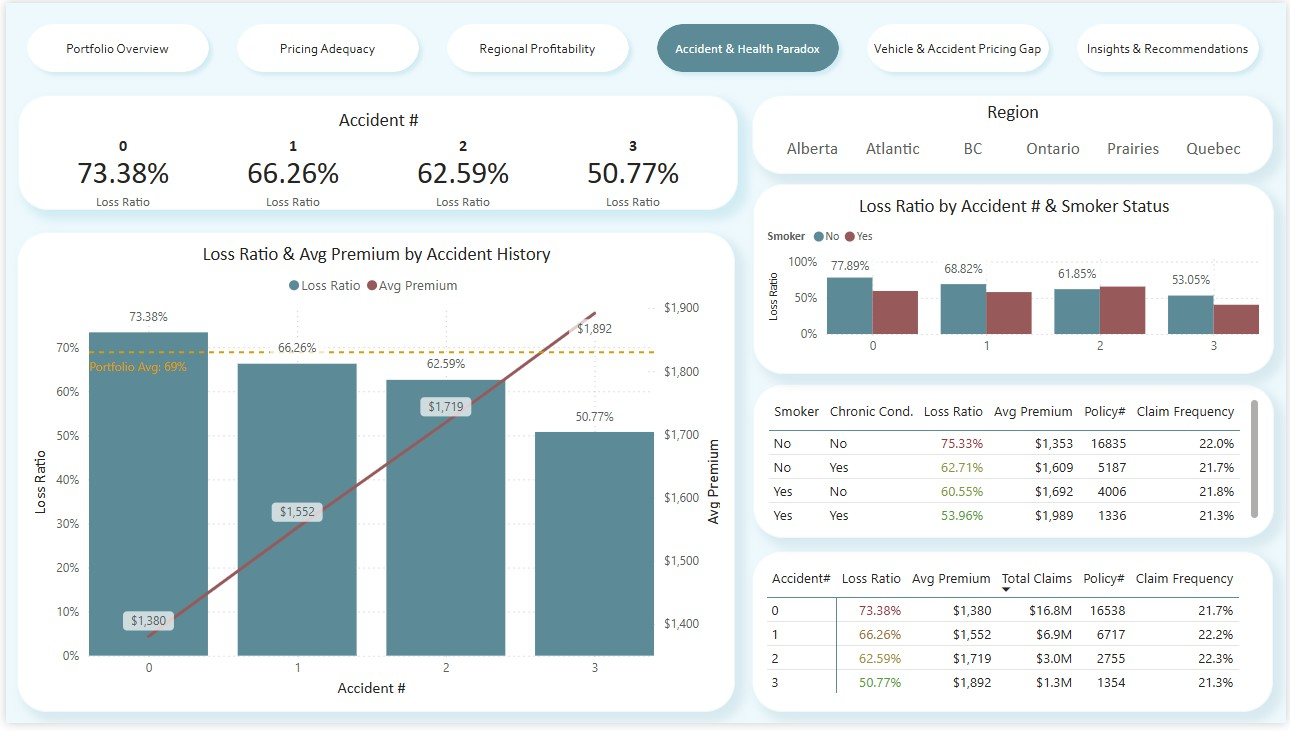

This screenshot's page, from the dashboard's own definition file:
{"tool":"powerbi","page":{"name":"Accident & Health Paradox","canvas":[1280,720],"ordinal":3},"visuals":[{"type":"pageNavigator","box":[11.5,12.4,1255.6,65.6],"z":0},{"type":"cardVisual","title":"Accident #","fields":{"Data":["INSURANCE_DETAIL.Loss Ratio"],"Rows":["INSURANCE_DETAIL.PREVIOUSACCIDENTS"]},"box":[12.2,92.2,720,114.4],"z":1000},{"type":"slicer","title":"Region","fields":{"Values":["INSURANCE_DETAIL.REGION"]},"box":[745.6,92.2,521.1,78.9],"z":2000},{"type":"pivotTable","title":"Avg Premium vs Avg Risk Score ","fields":{"Values":["INSURANCE_DETAIL.Loss Ratio","INSURANCE_DETAIL.Avg Premium","INSURANCE_DETAIL.Total Claims (M)","CountNonNull(INSURANCE_DETAIL.POLICYID)","INSURANCE_DETAIL.Claim Frequency"],"Rows":["INSURANCE_DETAIL.PREVIOUSACCIDENTS"]},"box":[746,548,521,161],"z":3000},{"type":"tableEx","title":"Avg Premium vs Avg Risk Score ","fields":{"Values":["INSURANCE_DETAIL.SMOKER","INSURANCE_DETAIL.CHRONICCONDITION","INSURANCE_DETAIL.Loss Ratio","INSURANCE_DETAIL.Avg Premium","CountNonNull(INSURANCE_DETAIL.POLICYID)","INSURANCE_DETAIL.Claim Frequency"]},"box":[747,381,521,154],"z":4000},{"type":"clusteredColumnChart","title":"Loss Ratio by Accident # & Smoker Status","fields":{"Y":["INSURANCE_DETAIL.Loss Ratio"],"Category":["INSURANCE_DETAIL.PREVIOUSACCIDENTS"],"Series":["INSURANCE_DETAIL.SMOKER"]},"box":[747,181,521,190],"z":5000},{"type":"lineStackedColumnComboChart","title":"Loss Ratio & Avg Premium by Accident History","fields":{"Y":["INSURANCE_DETAIL.Loss Ratio"],"Category":["INSURANCE_DETAIL.PREVIOUSACCIDENTS"],"Y2":["INSURANCE_DETAIL.Avg Premium"]},"box":[11,229,718,480],"z":6000}]}

Visuals, with their boxes in screenshot pixels (x1, y1, x2, y2), scaled from the page's 1280x720 canvas onto the 1290x731 screenshot:
pageNavigator: [12,13,1277,79]
"Accident #" cardVisual: [12,94,738,210]
"Region" slicer: [751,94,1277,174]
"Avg Premium vs Avg Risk Score " pivotTable: [752,556,1277,720]
"Avg Premium vs Avg Risk Score " tableEx: [753,387,1278,543]
"Loss Ratio by Accident # & Smoker Status" clusteredColumnChart: [753,184,1278,377]
"Loss Ratio & Avg Premium by Accident History" lineStackedColumnComboChart: [11,232,735,720]
